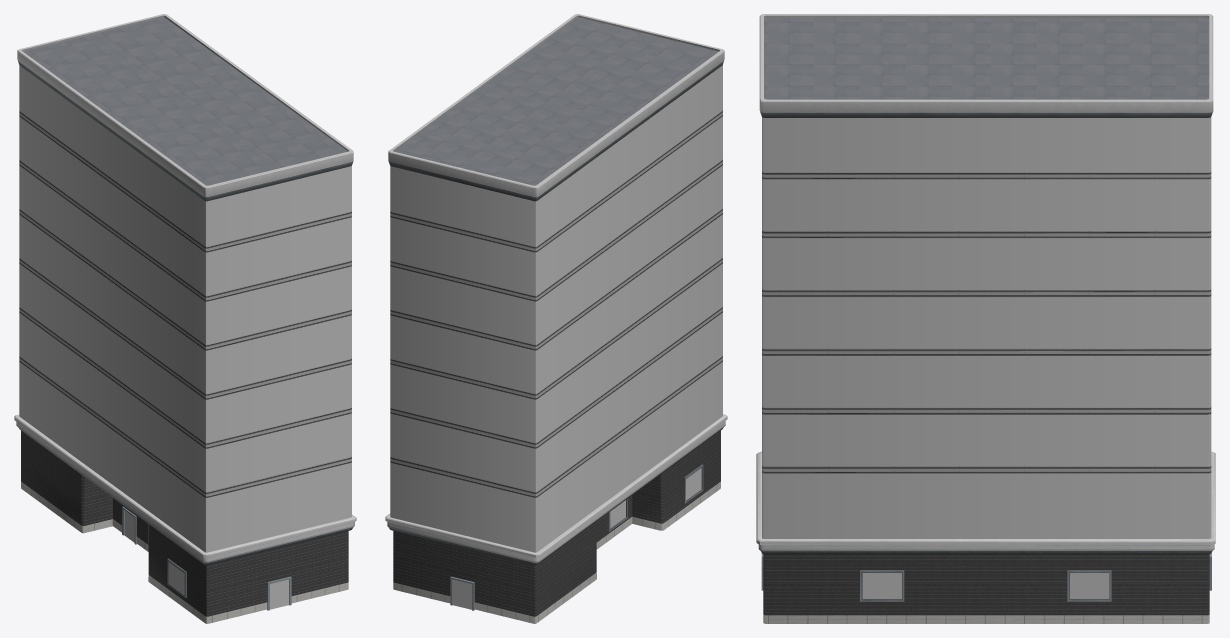
Rendered from HouseGT.fbx.
3 renders of one model, left to right at view 1: azimuth 30°, elevation 25°; view 2: azimuth 150°, elevation 25°; view 3: azimuth 270°, elevation 25°, orthographic. The views are drawn at different scales.
Visible parts, largest first — view 1: HouseGT; view 2: HouseGT; view 3: HouseGT.
Part boxes in pixels (box(x1,y1,x2,y2)): HouseGT: box(14, 14, 356, 623); HouseGT: box(385, 14, 727, 623); HouseGT: box(756, 14, 1215, 623).
Size of what is drawn, in the model's own units: 17.23 by 46.56 by 36.85.
